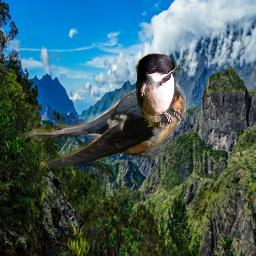Swallow: (17, 74, 186, 168), (134, 51, 185, 127)
